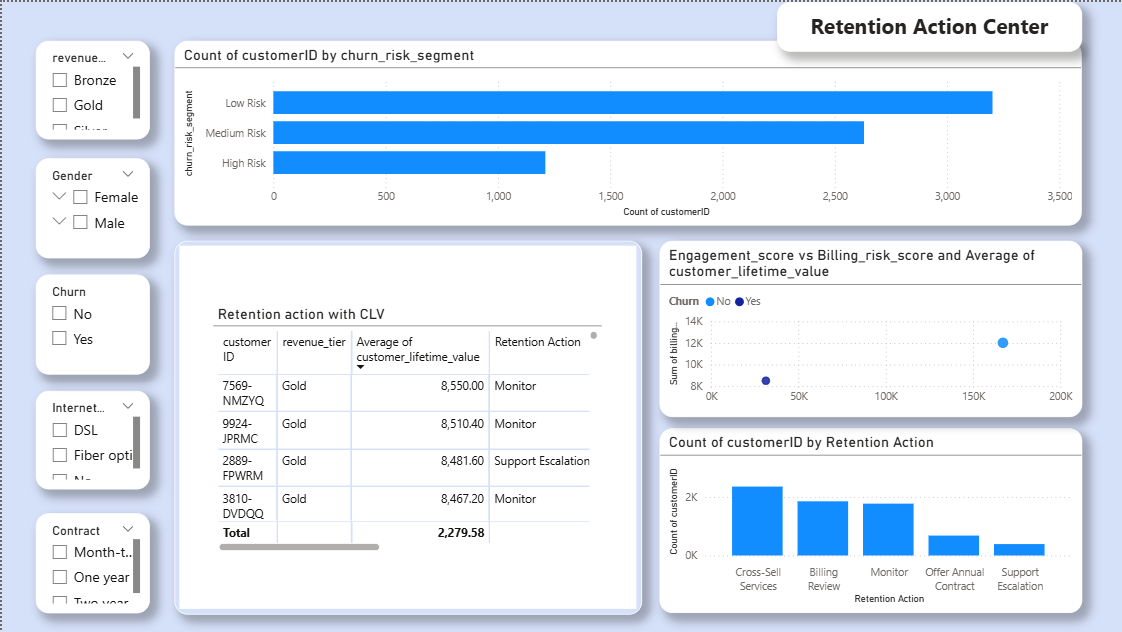

This screenshot's page, from the dashboard's own definition file:
{"tool":"powerbi","page":{"name":"Retention Action Center","canvas":[1280,720],"ordinal":4},"visuals":[{"type":"shape","box":[197.1,272.9,534.3,427.1],"z":500},{"type":"slicer","fields":{"Values":["upgraded_customer_retention.gender","upgraded_customer_retention.SeniorCitizen","upgraded_customer_retention.Partner","upgraded_customer_retention.Dependents"]},"box":[38.6,178.6,130,114.3],"z":1000},{"type":"tableEx","title":"Retention action with CLV","fields":{"Values":["upgraded_customer_retention.customerID","upgraded_customer_retention.revenue_tier","Avg(upgraded_customer_retention.customer_lifetime_value)","upgraded_customer_retention.Retention Action","Avg(upgraded_customer_retention.MonthlyCharges)","Avg(upgraded_customer_retention.engagement_score)","Avg(upgraded_customer_retention.billing_risk_score)","Avg(upgraded_customer_retention.support_frustration_score)"]},"box":[241.4,345.7,444.3,285.7],"z":2000},{"type":"columnChart","fields":{"Category":["upgraded_customer_retention.Retention Action"],"Y":["CountNonNull(upgraded_customer_retention.customerID)"]},"box":[751.4,487.1,482.9,211.4],"z":3000},{"type":"barChart","fields":{"Category":["upgraded_customer_retention.churn_risk_segment"],"Y":["CountNonNull(upgraded_customer_retention.customerID)"]},"box":[197.1,44.3,1037.1,211.4],"z":4000},{"type":"scatterChart","title":"Engagement_score vs Billing_risk_score and Average of customer_lifetime_value","fields":{"X":["Sum(upgraded_customer_retention.engagement_score)"],"Y":["Sum(upgraded_customer_retention.billing_risk_score)"],"Series":["upgraded_customer_retention.Churn"],"Size":["Avg(upgraded_customer_retention.customer_lifetime_value)"]},"box":[751.4,272.9,482.9,201.4],"z":5000},{"type":"slicer","fields":{"Values":["upgraded_customer_retention.Contract"]},"box":[38.6,584.3,130,114.3],"z":7000},{"type":"slicer","fields":{"Values":["upgraded_customer_retention.InternetService"]},"box":[38.6,444.3,130,112.9],"z":8000},{"type":"slicer","fields":{"Values":["upgraded_customer_retention.revenue_tier"]},"box":[38.6,44.3,130,112.9],"z":9000},{"type":"slicer","fields":{"Values":["upgraded_customer_retention.Churn"]},"box":[38,311.4,130,114],"z":10000},{"type":"textbox","box":[885.7,0,348.6,57.1],"z":10001}]}

Visuals, with their boxes in screenshot pixels (x1, y1, x2, y2), scaled from the page's 1280x720 canvas onto the 1122x632 screenshot:
shape: pyautogui.locateOnScreen(173, 240, 641, 614)
slicer - upgraded_customer_retention.gender x upgraded_customer_retention.SeniorCitizen: pyautogui.locateOnScreen(34, 157, 148, 257)
"Retention action with CLV" tableEx: pyautogui.locateOnScreen(212, 303, 601, 554)
columnChart - upgraded_customer_retention.Retention Action x CountNonNull(upgraded_customer_retention.customerID): pyautogui.locateOnScreen(659, 428, 1082, 613)
barChart - upgraded_customer_retention.churn_risk_segment x CountNonNull(upgraded_customer_retention.customerID): pyautogui.locateOnScreen(173, 39, 1082, 224)
"Engagement_score vs Billing_risk_score and Average of customer_lifetime_value" scatterChart: pyautogui.locateOnScreen(659, 240, 1082, 416)
slicer - upgraded_customer_retention.Contract: pyautogui.locateOnScreen(34, 513, 148, 613)
slicer - upgraded_customer_retention.InternetService: pyautogui.locateOnScreen(34, 390, 148, 489)
slicer - upgraded_customer_retention.revenue_tier: pyautogui.locateOnScreen(34, 39, 148, 138)
slicer - upgraded_customer_retention.Churn: pyautogui.locateOnScreen(33, 273, 147, 373)
textbox: pyautogui.locateOnScreen(776, 0, 1082, 50)
